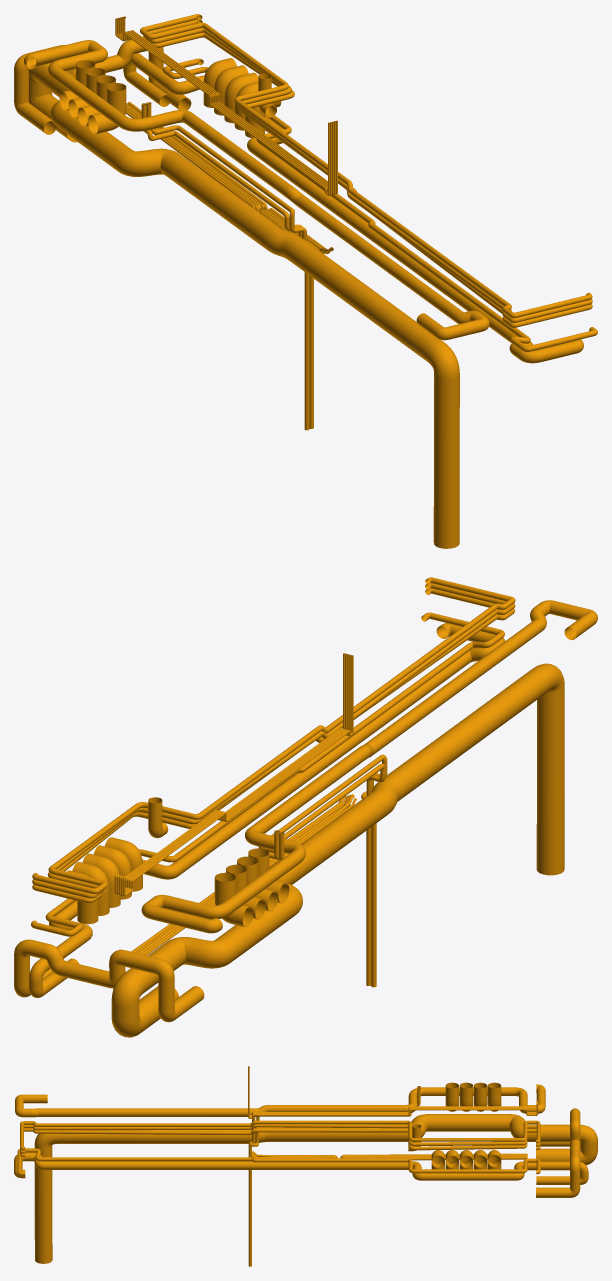
Rendered from Tutorial_Pipes.fbx.
3 renders of one model, top to bottom at view 1: azimuth 30°, elevation 25°; view 2: azimuth 150°, elevation 25°; view 3: azimuth 270°, elevation 25°, orthographic. The views are drawn at different scales.
Parts seen in each view (by area): view 1: Tutorial_Pipe_3, Tutorial_Pipe_4, Tutorial_Pipe_1, Tutorial_Pipe_5, Tutorial_Pipe_2, Tutorial_Pipe_6, Tutorial_Pipe_22, Tutorial_Pipe_23, LowerPipes, Tutorial_Pipe_24, Tutorial_Pipe_7, Tutorial_Pipe_8 (+5 smaller); view 2: Tutorial_Pipe_3, Tutorial_Pipe_4, Tutorial_Pipe_1, Tutorial_Pipe_22, Tutorial_Pipe_5, Tutorial_Pipe_2, Tutorial_Pipe_6, Tutorial_Pipe_24, Tutorial_Pipe_7, Tutorial_Pipe_23, LowerPipes, Tutorial_Pipe_13 (+13 smaller); view 3: Tutorial_Pipe_3, Tutorial_Pipe_1, Tutorial_Pipe_4, Tutorial_Pipe_2, Tutorial_Pipe_5, Tutorial_Pipe_7, Tutorial_Pipe_6, Tutorial_Pipe_22, LowerPipes, Tutorial_Pipe_16, Tutorial_Pipe_24, Tutorial_Pipe_14 (+7 smaller).
Part boxes in pixels (x1=…): Tutorial_Pipe_3: x1=29, y1=62, x2=459, y2=548; Tutorial_Pipe_4: x1=23, y1=40, x2=489, y2=340; Tutorial_Pipe_1: x1=123, y1=53, x2=583, y2=363; Tutorial_Pipe_5: x1=140, y1=14, x2=592, y2=318; Tutorial_Pipe_2: x1=163, y1=58, x2=597, y2=351; Tutorial_Pipe_6: x1=143, y1=19, x2=592, y2=322; Tutorial_Pipe_22: x1=14, y1=36, x2=191, y2=134; Tutorial_Pipe_23: x1=146, y1=102, x2=309, y2=430; LowerPipes: x1=126, y1=101, x2=333, y2=254; Tutorial_Pipe_24: x1=141, y1=103, x2=313, y2=428; Tutorial_Pipe_7: x1=145, y1=32, x2=592, y2=327; Tutorial_Pipe_8: x1=88, y1=83, x2=126, y2=134; Tutorial_Pipe_3: x1=111, y1=663, x2=564, y2=1037; Tutorial_Pipe_4: x1=141, y1=600, x2=597, y2=933; Tutorial_Pipe_1: x1=29, y1=623, x2=505, y2=997; Tutorial_Pipe_22: x1=14, y1=939, x2=204, y2=1022; Tutorial_Pipe_5: x1=32, y1=577, x2=515, y2=894; Tutorial_Pipe_2: x1=31, y1=612, x2=504, y2=936; Tutorial_Pipe_6: x1=32, y1=583, x2=515, y2=898; Tutorial_Pipe_24: x1=269, y1=763, x2=385, y2=985; Tutorial_Pipe_7: x1=32, y1=588, x2=514, y2=903; Tutorial_Pipe_23: x1=258, y1=754, x2=387, y2=987; LowerPipes: x1=131, y1=794, x2=356, y2=955; Tutorial_Pipe_13: x1=123, y1=655, x2=353, y2=896; Tutorial_Pipe_3: x1=34, y1=1114, x2=597, y2=1263; Tutorial_Pipe_1: x1=14, y1=1152, x2=588, y2=1184; Tutorial_Pipe_4: x1=15, y1=1084, x2=545, y2=1117; Tutorial_Pipe_2: x1=17, y1=1148, x2=540, y2=1175; Tutorial_Pipe_5: x1=20, y1=1120, x2=540, y2=1150; Tutorial_Pipe_7: x1=20, y1=1128, x2=540, y2=1156; Tutorial_Pipe_6: x1=20, y1=1124, x2=540, y2=1153; Tutorial_Pipe_22: x1=536, y1=1108, x2=580, y2=1197; LowerPipes: x1=252, y1=1151, x2=527, y2=1160; Tutorial_Pipe_16: x1=248, y1=1069, x2=537, y2=1118; Tutorial_Pipe_24: x1=248, y1=1086, x2=420, y2=1266; Tutorial_Pipe_14: x1=248, y1=1067, x2=537, y2=1115.
Bounding box in the file's own units: 4803 × 7236 × 18682.
